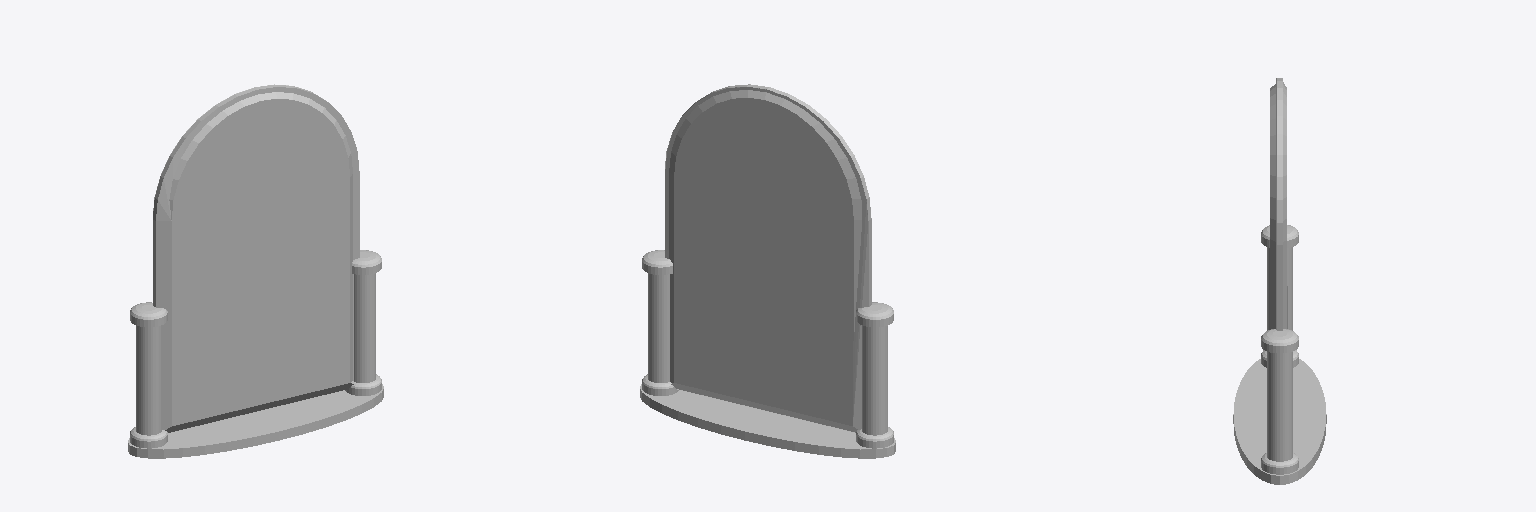
The model's file is jdp.obj.
The picture shows the model from 3 angles: view 1: azimuth 30°, elevation 25°; view 2: azimuth 150°, elevation 25°; view 3: azimuth 270°, elevation 25°; orthographic projection.
Visible parts, largest first — view 1: Plane, Circle, Cylinder.002, Cylinder.004, Plane.001; view 2: Plane, Circle, Plane.002, Cylinder.002, Cylinder.004; view 3: Circle, Cylinder.004, Plane, Plane.001, Cylinder.002, Plane.002.
Part boxes in pixels (left/top/right/bottom): Plane: left=153, top=85, right=359, bottom=432; Circle: left=128, top=384, right=383, bottom=458; Cylinder.002: left=130, top=302, right=167, bottom=448; Cylinder.004: left=345, top=250, right=381, bottom=395; Plane.001: left=153, top=84, right=352, bottom=382; Plane: left=665, top=84, right=871, bottom=432; Circle: left=640, top=384, right=895, bottom=458; Plane.002: left=669, top=90, right=861, bottom=382; Cylinder.002: left=856, top=302, right=893, bottom=448; Cylinder.004: left=642, top=250, right=678, bottom=395; Circle: left=1233, top=359, right=1326, bottom=484; Cylinder.004: left=1261, top=329, right=1298, bottom=474; Plane: left=1276, top=78, right=1287, bottom=330; Plane.001: left=1270, top=84, right=1275, bottom=329; Cylinder.002: left=1261, top=225, right=1298, bottom=367; Plane.002: left=1283, top=82, right=1286, bottom=328.
Bounding box in the file's own units: 3.67 × 4.65 × 1.17.